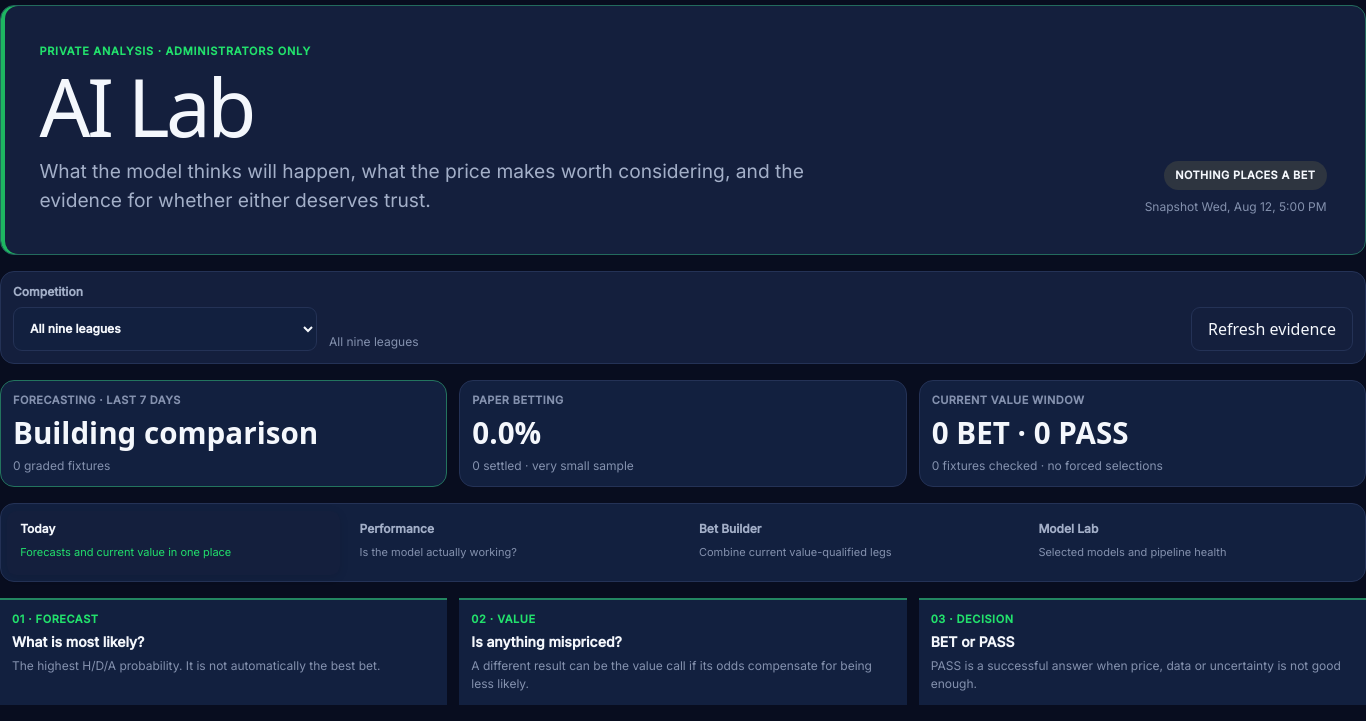
Scenario: AI Lab page › does not expose routine manual promotion as a second model-selection authority
This screenshot has width=1366, height=721.
Expected: the heading "AI Lab" is shown, [39,51,253,160]
Click the button "Model Lab Selected models and pipeline health" at (1192, 543), box [1026,511,1359,575]
(page scrolled)
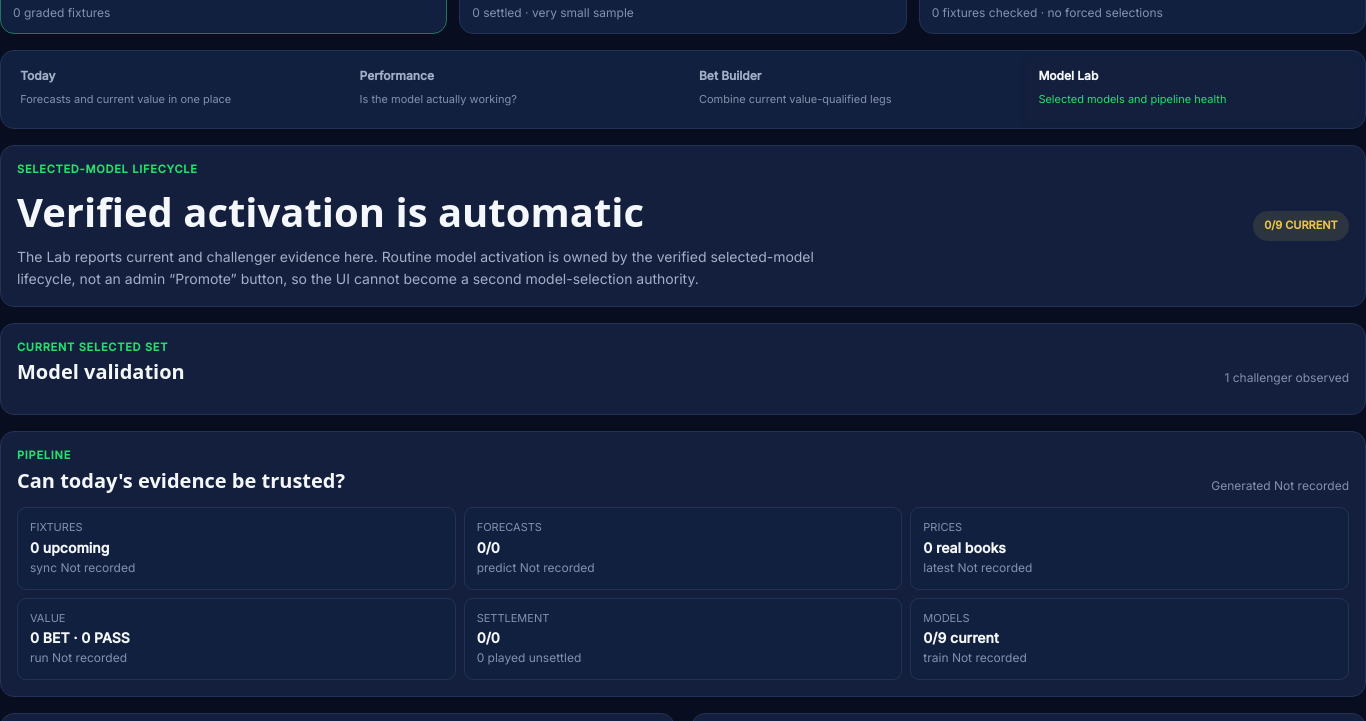
Now the heading "Verified activation is automatic" is shown, box [17,184,644,239]
Now the text "1 challenger observed" is shown, box [1224,370,1349,386]
